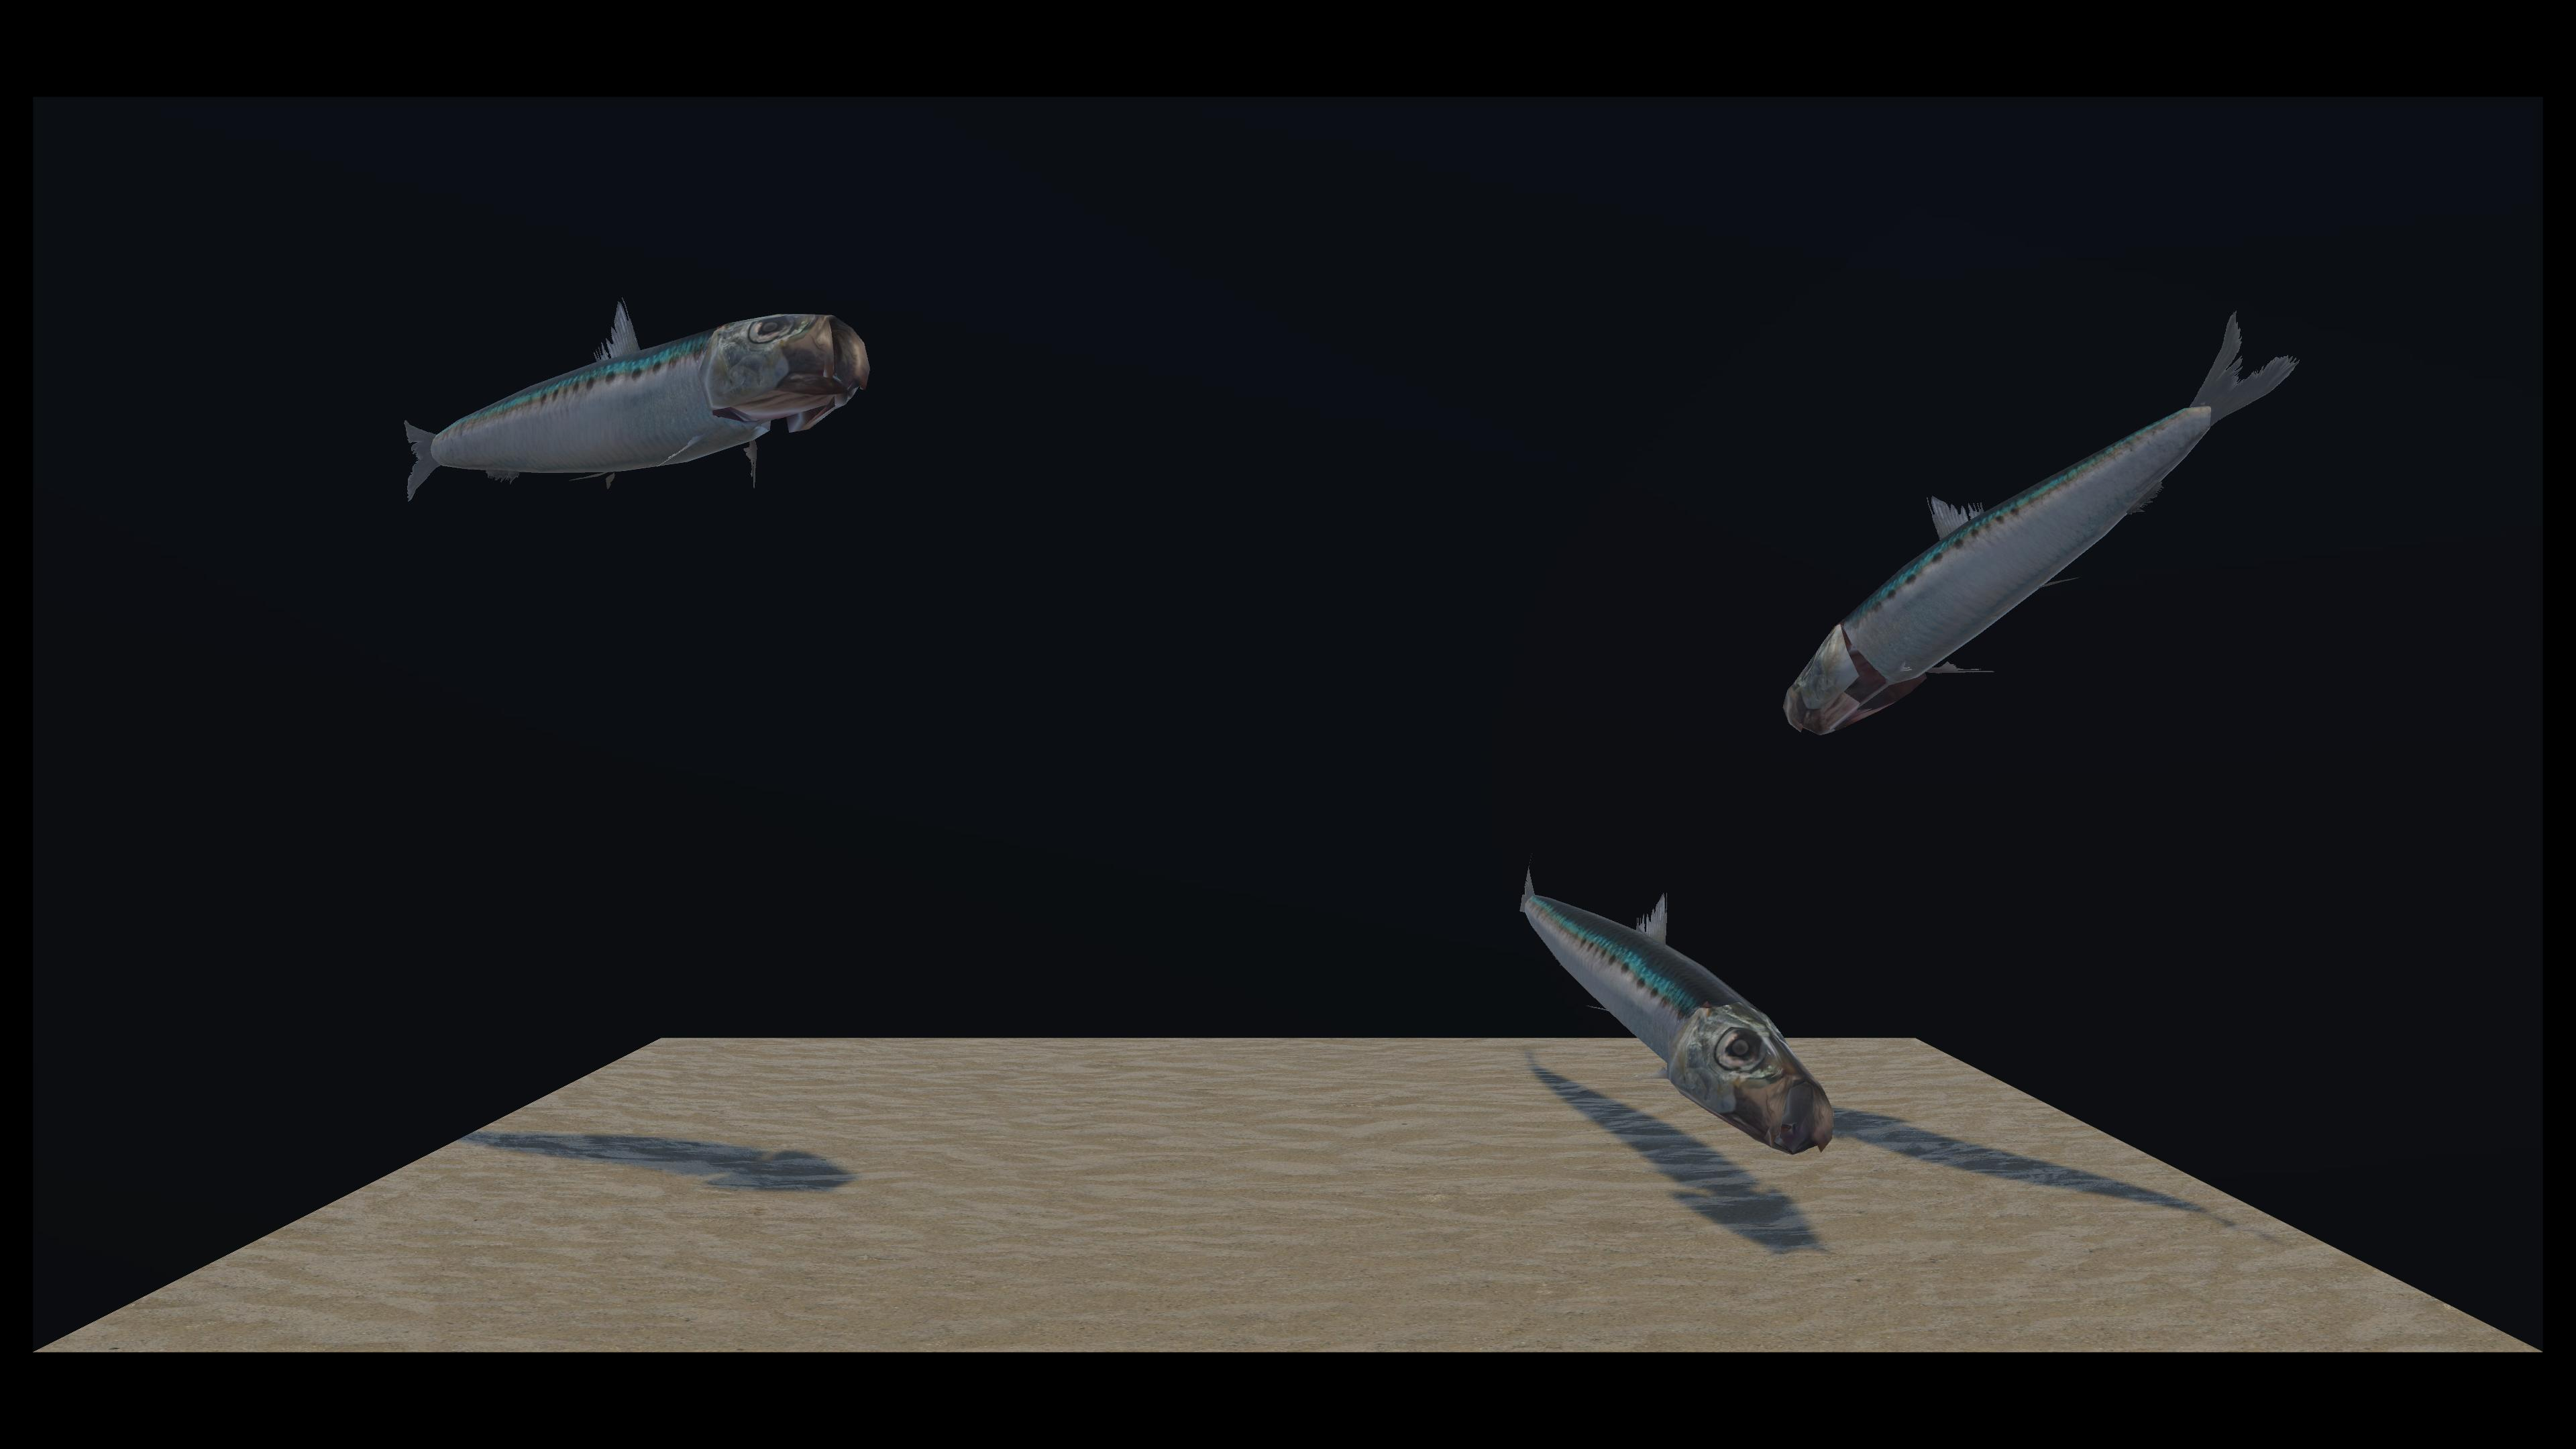Sardine_Front: (504, 442, 1801, 1106), (899, 311, 2304, 685), (403, 313, 922, 499)
